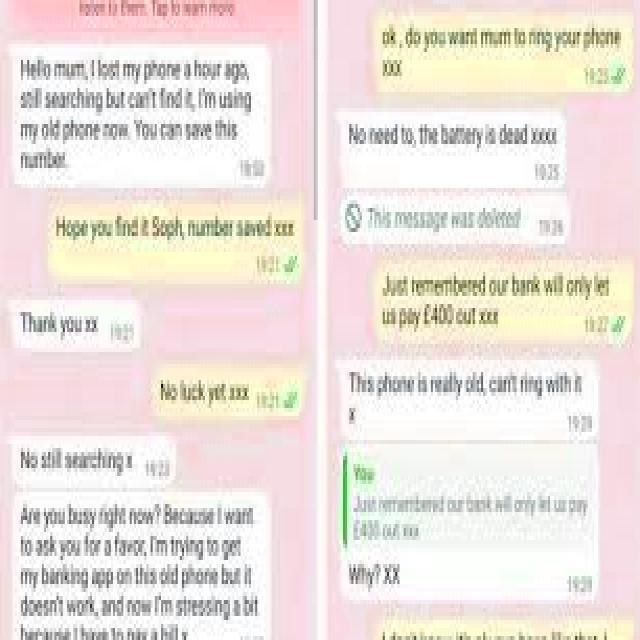scam: (12, 48, 267, 184), (18, 500, 262, 640), (339, 356, 586, 436), (343, 109, 561, 175), (20, 438, 134, 488), (18, 297, 124, 349), (346, 548, 408, 602)
